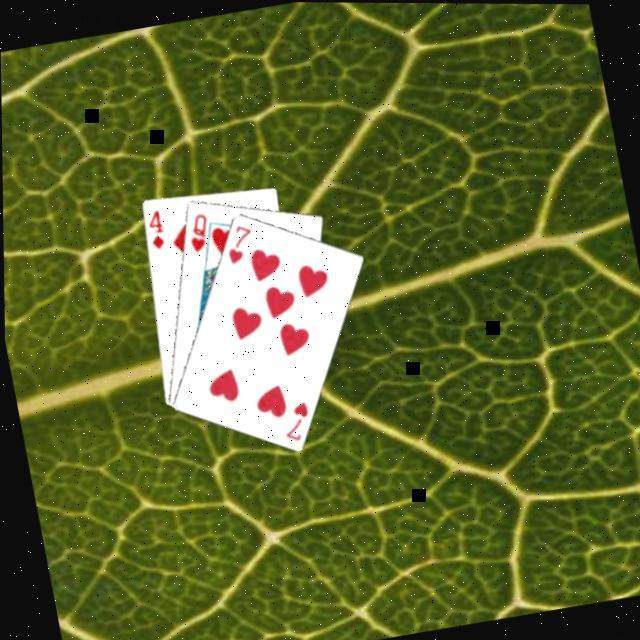4D: (139, 207, 167, 254)
7H: (218, 220, 258, 268), (273, 399, 313, 447)
QH: (180, 211, 213, 257)
